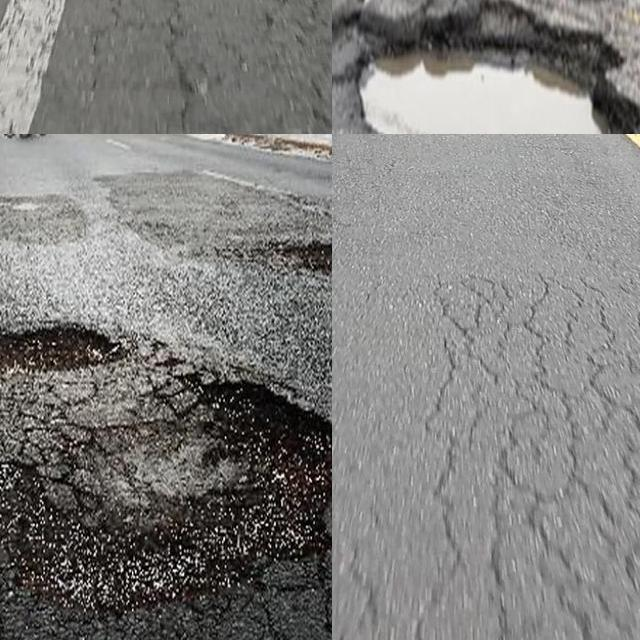Lubang: (4, 384, 332, 596), (358, 2, 640, 134), (0, 323, 131, 374), (281, 239, 332, 273)
Retak Buaya: (399, 280, 640, 640)
